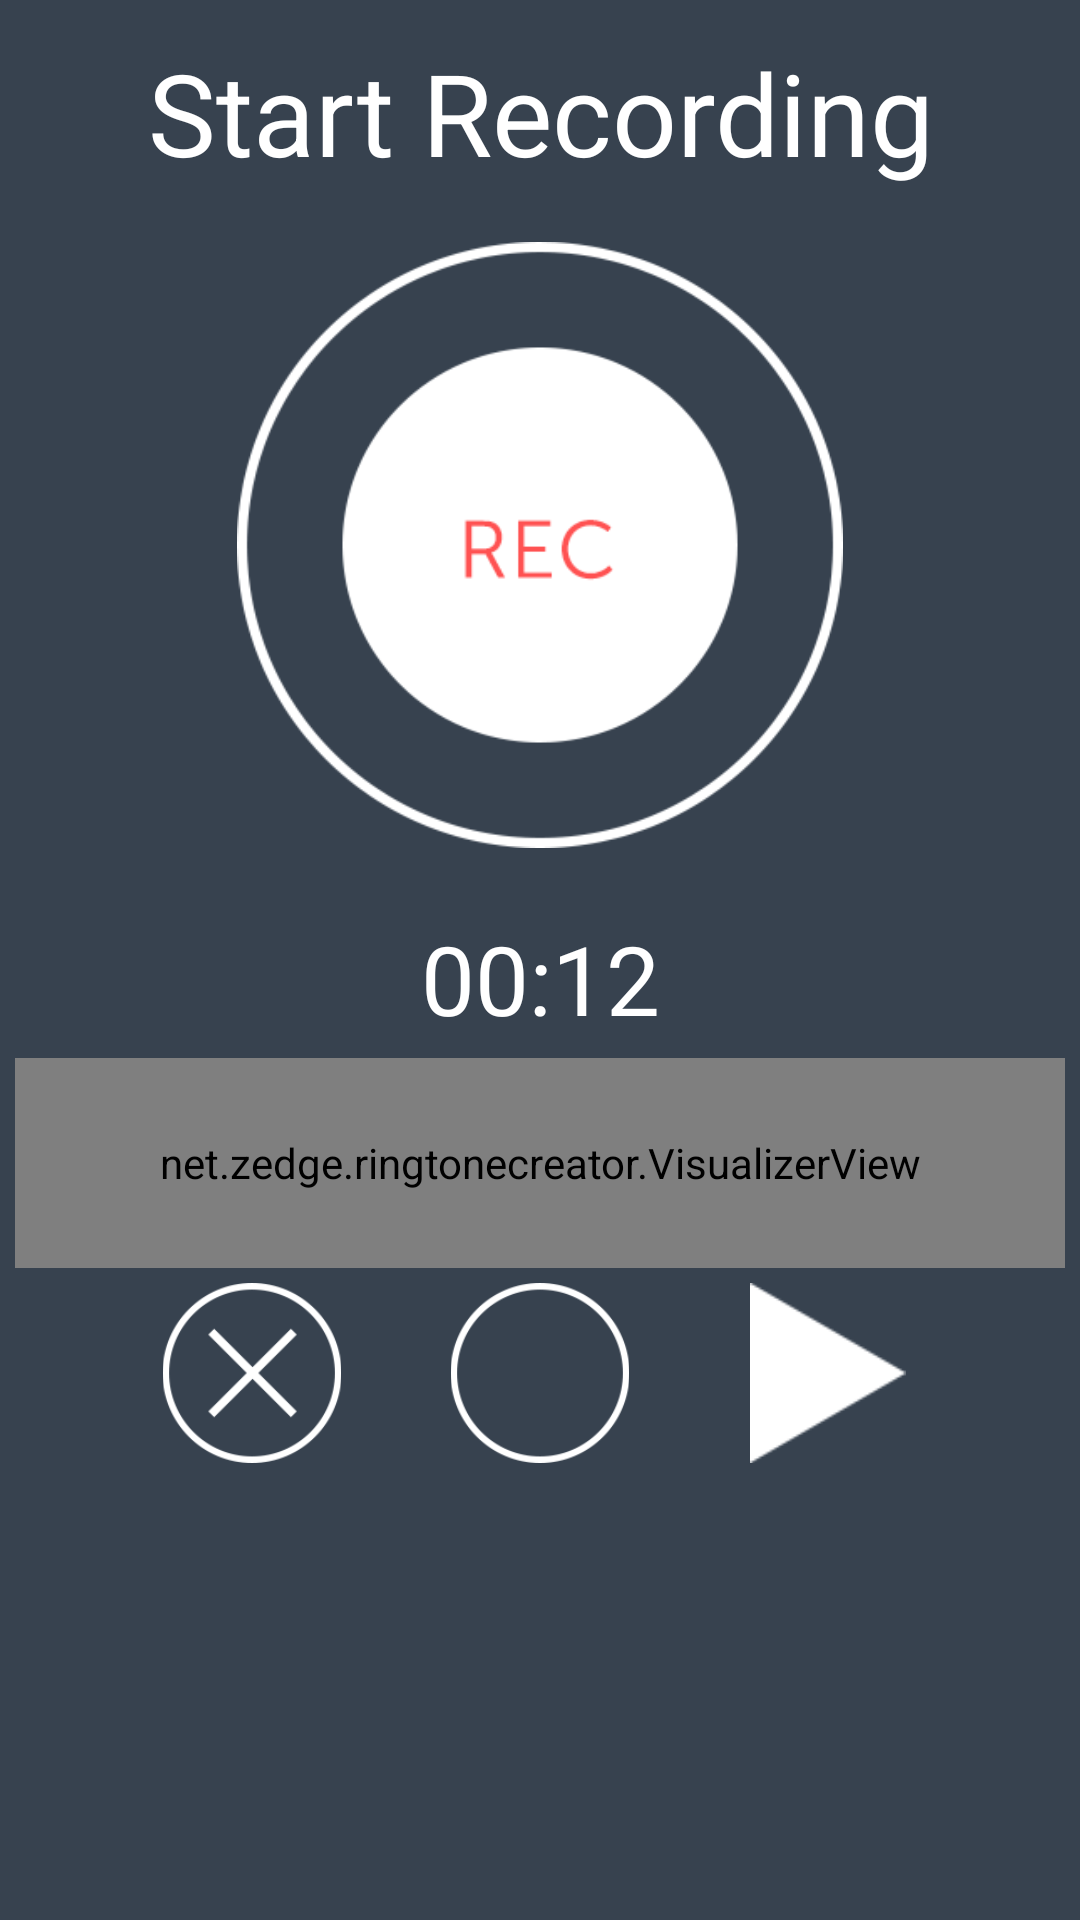

Icons on this 1080 × 1920 Android screen, each with the point to tap as [x,y]:
delete: [252,1373]
play record: [828,1373]
